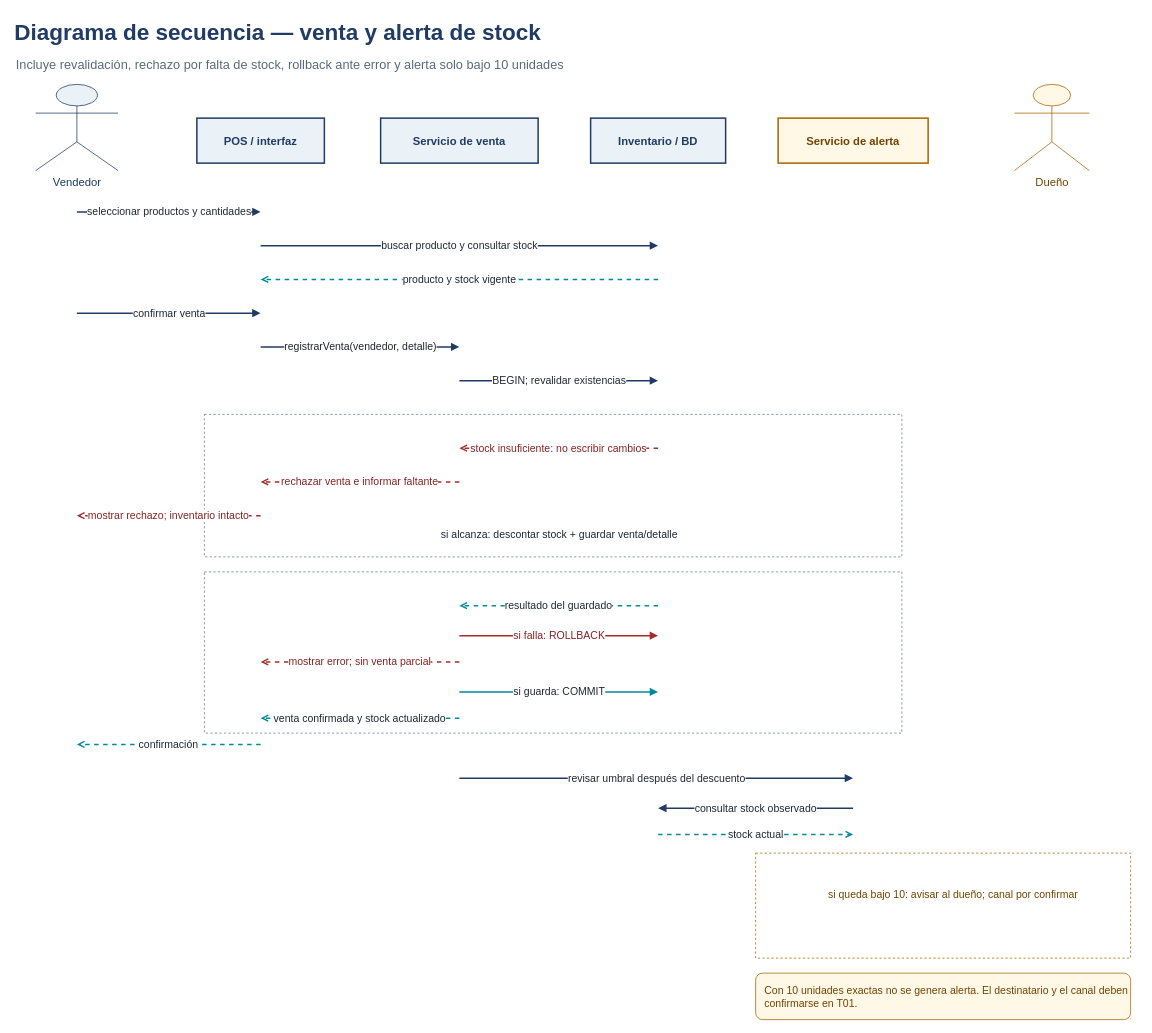
Image size: 1152x1033. Some labels were removed from this diagram. The shapes that lost their labels are listed below. From the top down, each one's centre as x and y in pixels, then its label:
(553,485): alt — validación de existencias
(553,652): alt — resultado del guardado
(943,905): opt [stock final < 10]
